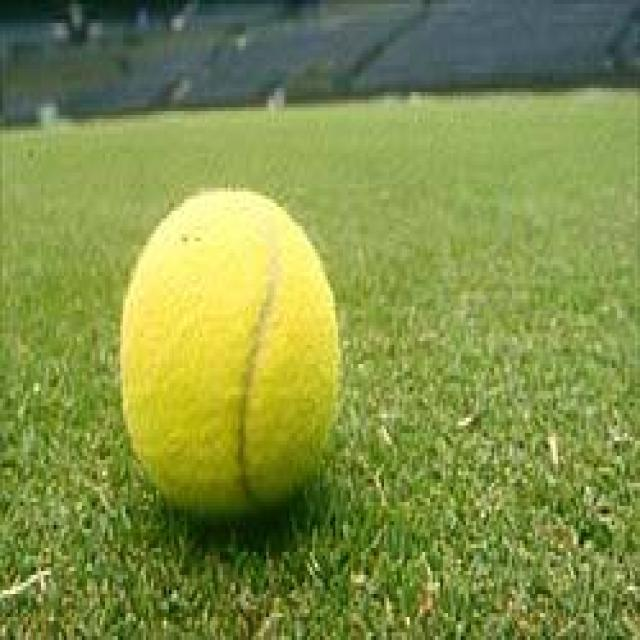Tennis Ball: (118, 188, 343, 521)
